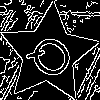Q: (24, 29, 84, 90)
